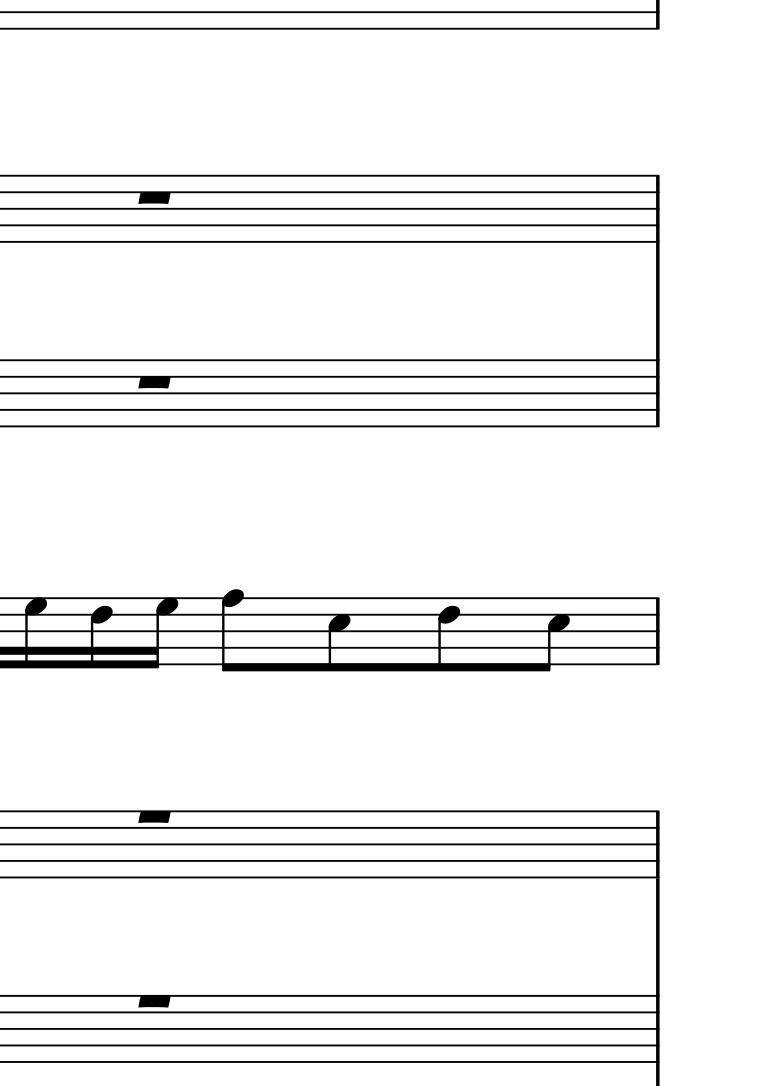16_6: (87, 595, 114, 671)
16_7: (144, 595, 179, 672), (21, 593, 48, 673)
8_5: (536, 596, 571, 675), (325, 596, 352, 675)
8_6: (436, 595, 461, 675)
8_8: (219, 587, 245, 675)
Rests1: (133, 370, 176, 393), (133, 187, 175, 208), (133, 807, 175, 827), (133, 992, 174, 1012)
Single_barline: (647, 359, 666, 427), (648, 175, 666, 241), (648, 997, 666, 1062), (649, 811, 666, 877), (649, 598, 666, 663)
